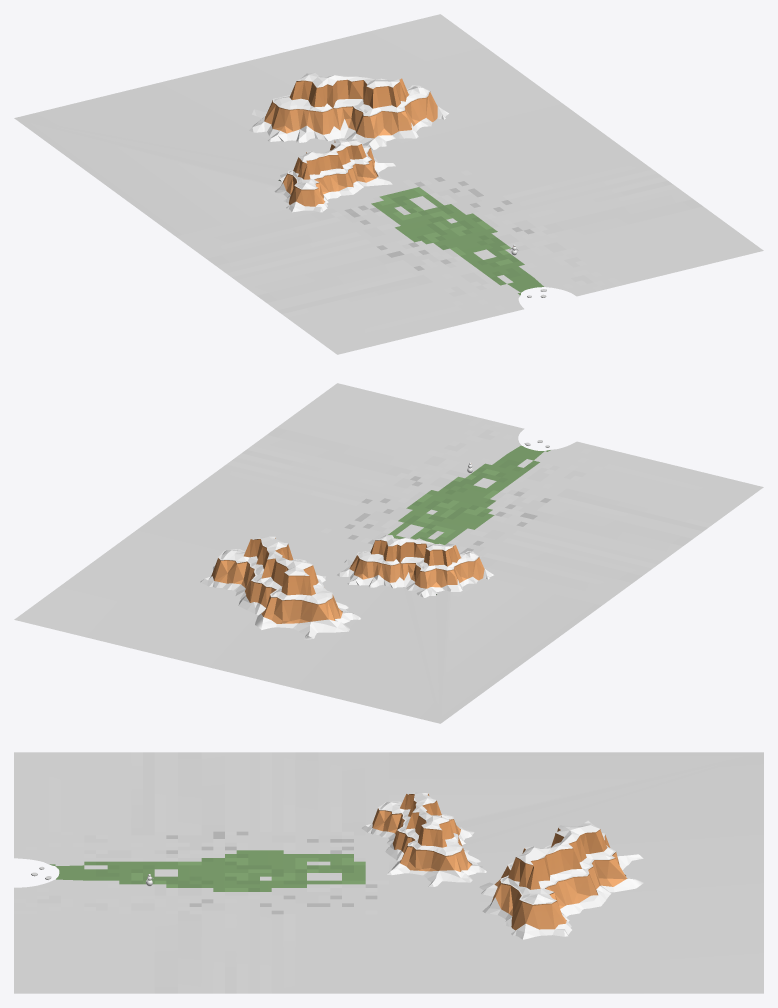
Rendered from SceneShoot_Snow.fbx.
The picture shows the model from 3 angles, top to bottom: view 1: azimuth 30°, elevation 25°; view 2: azimuth 150°, elevation 25°; view 3: azimuth 270°, elevation 25°; orthographic projection. The views are drawn at different scales.
Visible parts, largest first — view 1: Plane.003, mountains.002, mountains.003; view 2: Plane.003, mountains.002, mountains.003; view 3: Plane.003, mountains.002, mountains.003.
Boxes of the visible parts, box(x1,y1,x2,y2) form: Plane.003: box(14, 14, 763, 354); mountains.002: box(249, 72, 448, 149); mountains.003: box(274, 137, 395, 212); Plane.003: box(14, 383, 763, 723); mountains.002: box(200, 536, 360, 639); mountains.003: box(337, 534, 493, 597); Plane.003: box(14, 752, 763, 993); mountains.002: box(479, 820, 644, 939); mountains.003: box(361, 792, 486, 886).
Bounding box in the file's own units: 16475 × 1791 × 21634.
